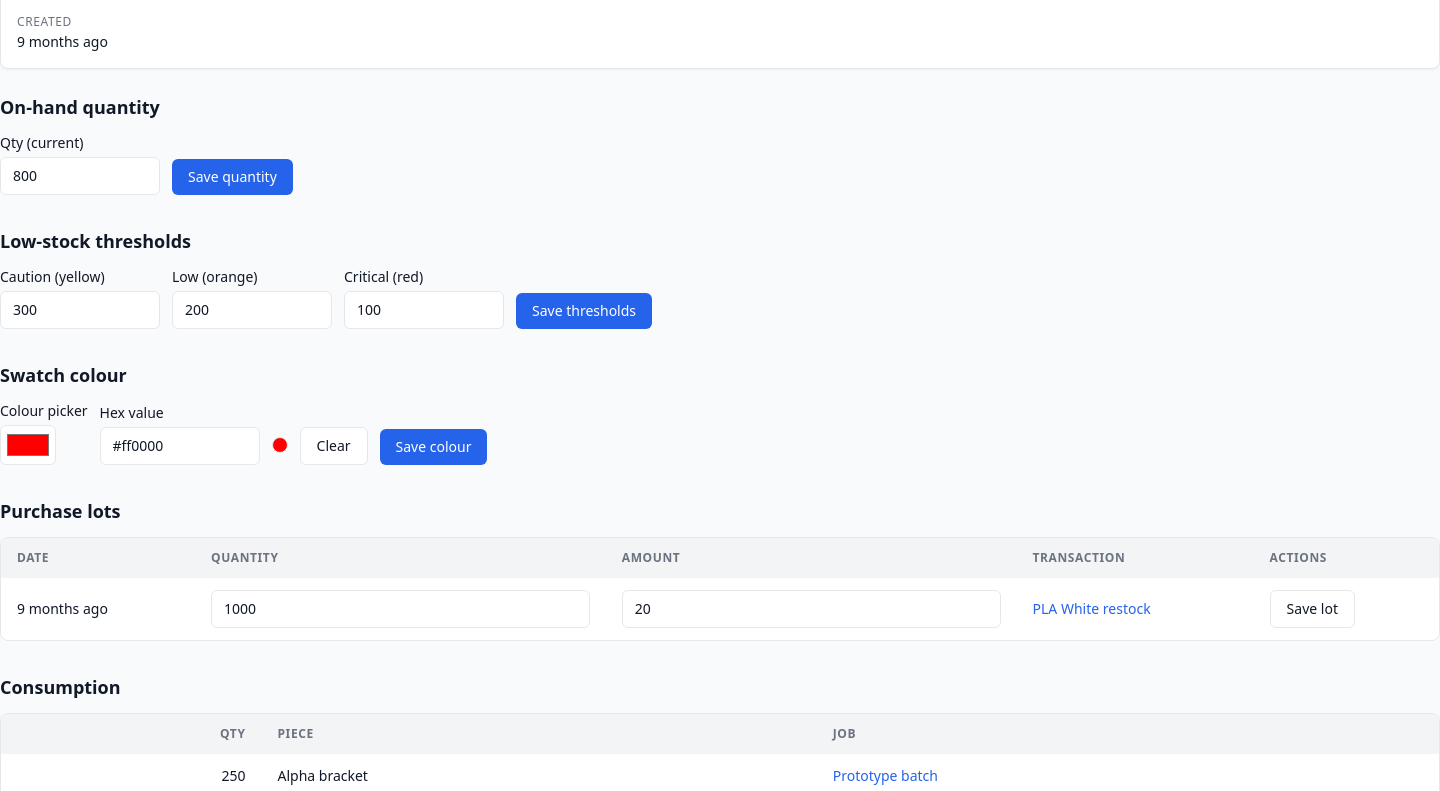
Test case: InventoryDetailPage › purchase lots › rejects a non-positive lot quantity
(page scrolled)
Replace the text in the number field with test id "inventory-detail-lot-qty-L1" with "0" at (400,609), box [211, 590, 590, 628]
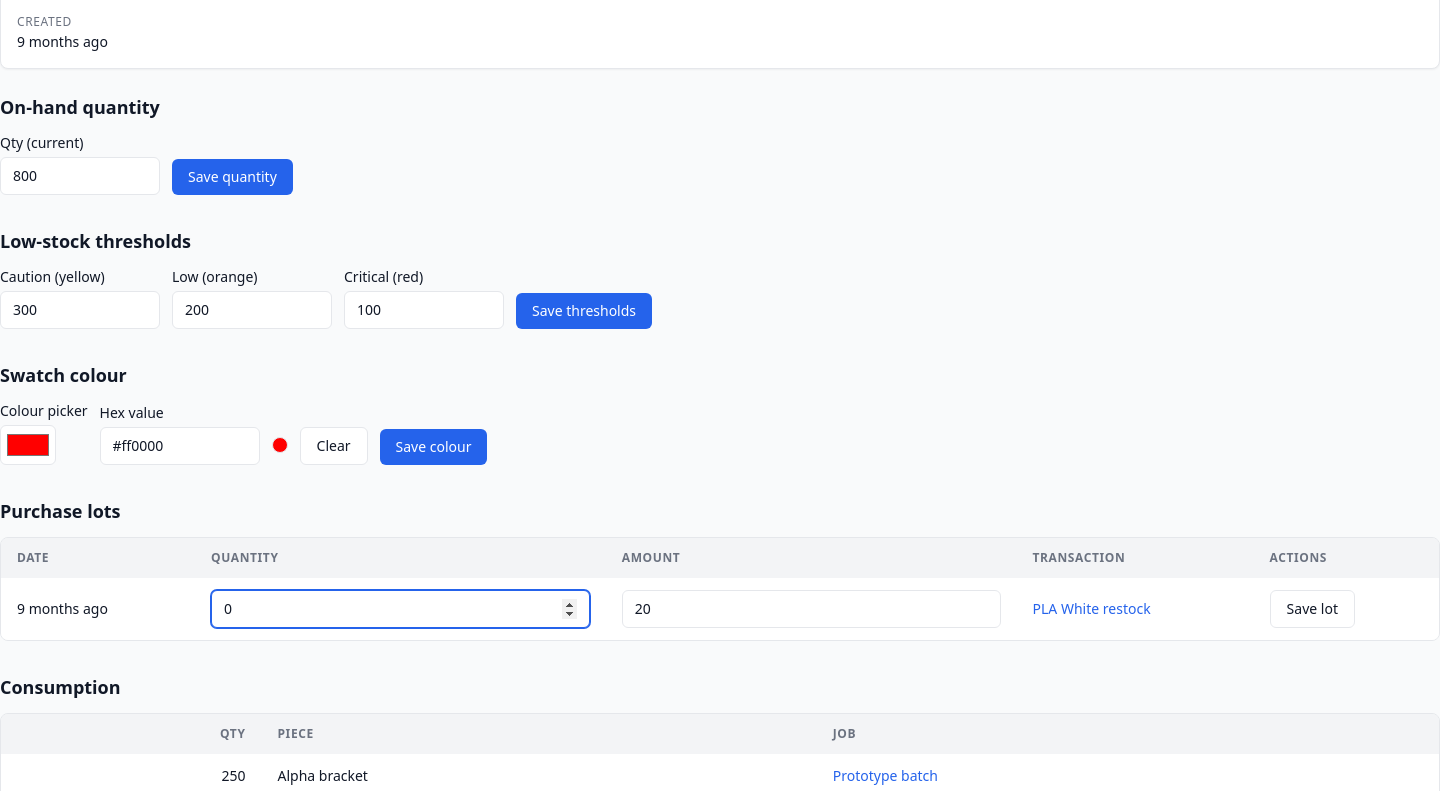
Click the button with test id "inventory-detail-save-lot-L1" at (1312,609), box [1270, 590, 1355, 628]
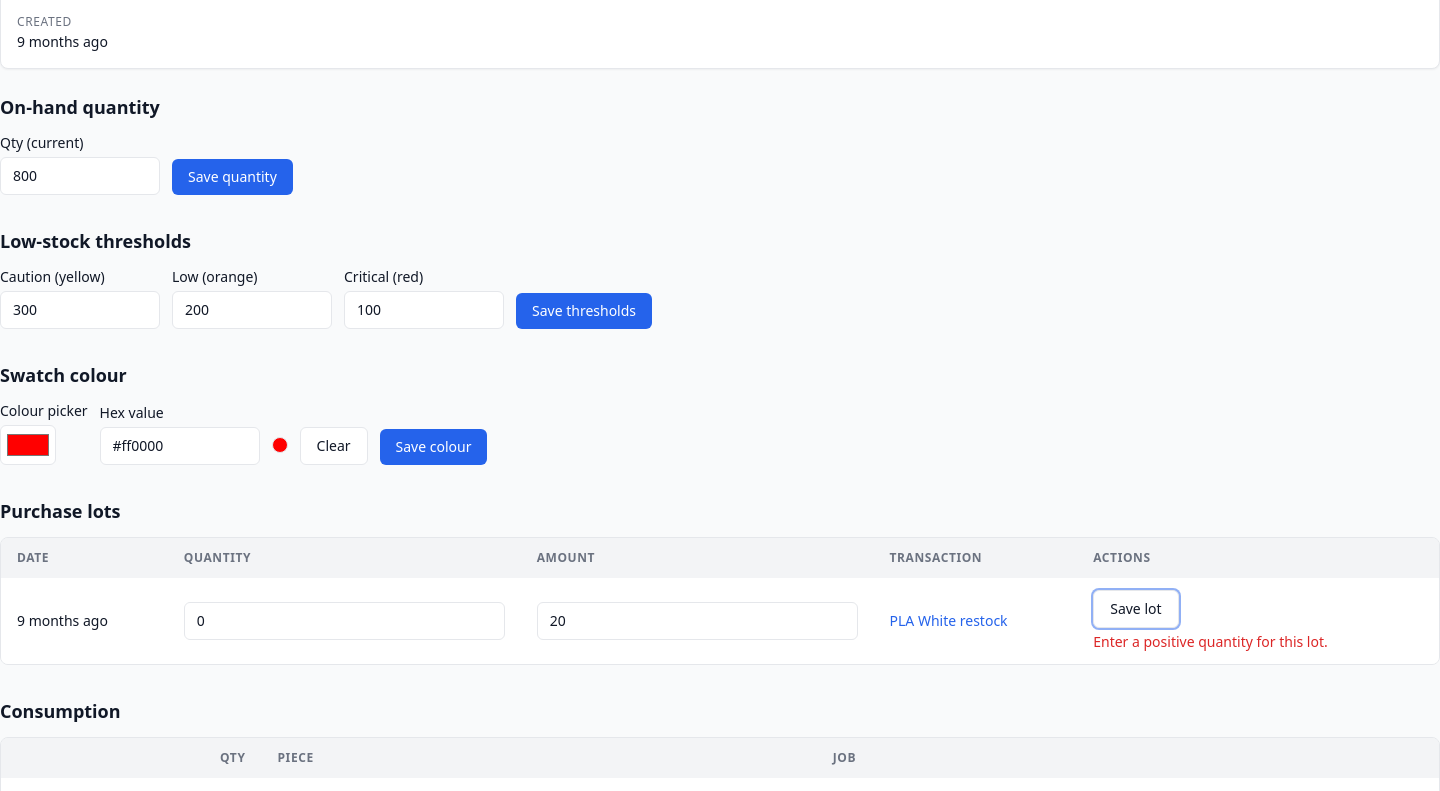
Check: the message reads "Enter a positive quantity for this lot.", box [1093, 632, 1328, 651]
